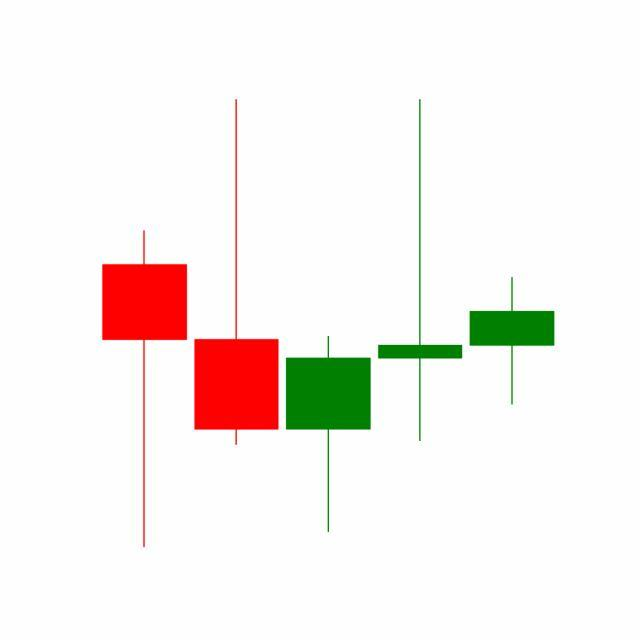Spinning Top: (374, 96, 468, 446)
